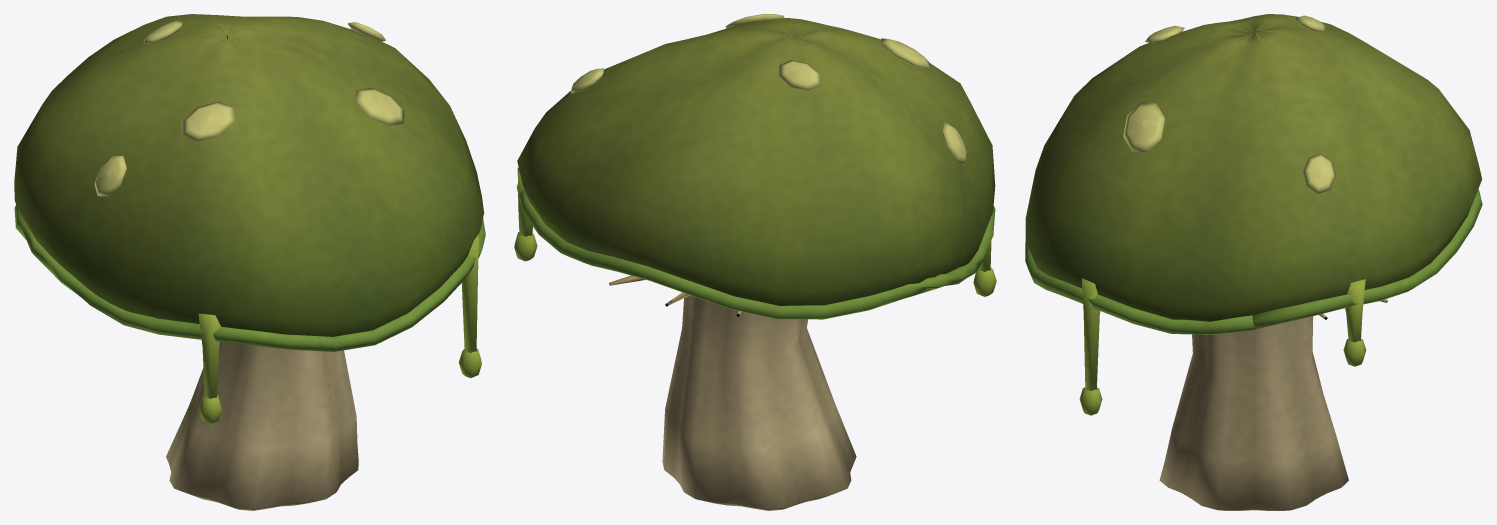
Rendered from slime-shroom-desktop.glb.
3 renders of one model, left to right at view 1: azimuth 30°, elevation 25°; view 2: azimuth 150°, elevation 25°; view 3: azimuth 270°, elevation 25°, orthographic. The views are drawn at different scales.
Visible parts, largest first — view 1: slime-shroom_1, slime-shroom_0, slime-shroom_2; view 2: slime-shroom_1, slime-shroom_0, slime-shroom_2; view 3: slime-shroom_1, slime-shroom_0, slime-shroom_2.
Part boxes in pixels (left/top/right/bottom): slime-shroom_1: left=14, top=14, right=484, bottom=336; slime-shroom_0: left=166, top=341, right=358, bottom=510; slime-shroom_2: left=14, top=21, right=485, bottom=424; slime-shroom_1: left=517, top=18, right=995, bottom=305; slime-shroom_0: left=609, top=275, right=856, bottom=510; slime-shroom_2: left=514, top=14, right=996, bottom=319; slime-shroom_1: left=1025, top=14, right=1482, bottom=321; slime-shroom_0: left=1159, top=299, right=1387, bottom=510; slime-shroom_2: left=1025, top=15, right=1482, bottom=415.
Size of the model in its own units: 1.19 by 1.24 by 1.17.
Materials: 3 (3 with a texture image).
